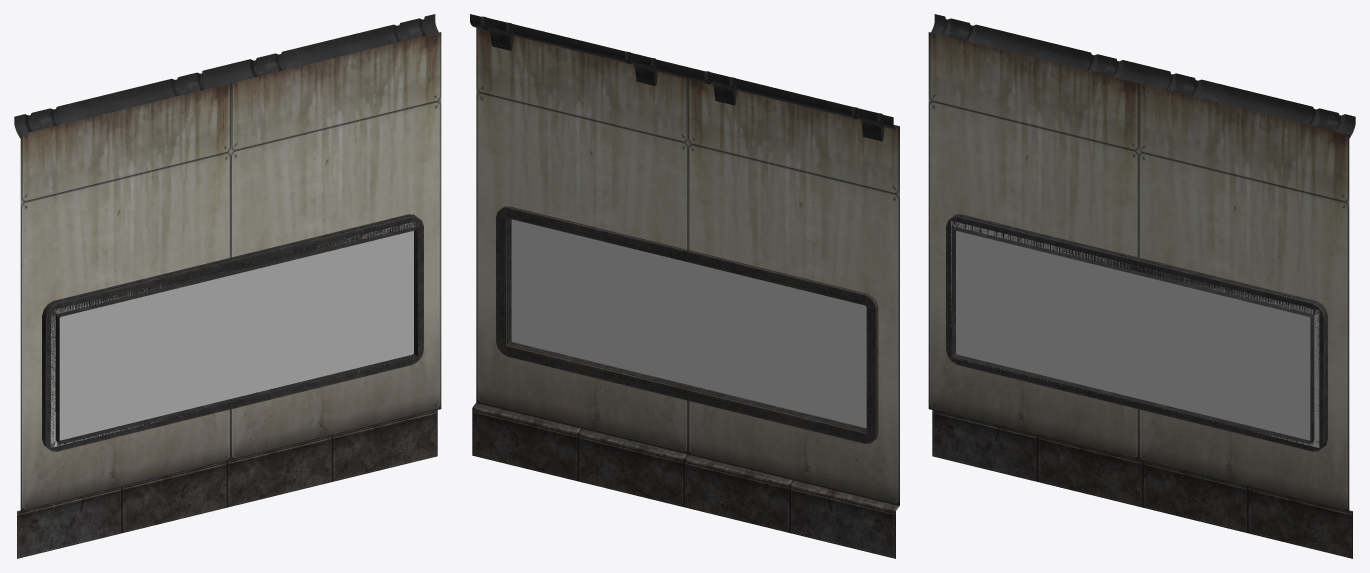
The model's file is lab_window_large_less_reflection.dae.
3 renders of one model, left to right at view 1: azimuth 30°, elevation 25°; view 2: azimuth 150°, elevation 25°; view 3: azimuth 330°, elevation 25°, orthographic.
Visible parts, largest first — view 1: lab_window_large, glass__2_; view 2: lab_window_large, glass__2_; view 3: lab_window_large, glass__2_.
Boxes of the visible parts, x1=… form: lab_window_large: x1=14, y1=14, x2=441, y2=558; glass__2_: x1=50, y1=222, x2=417, y2=447; lab_window_large: x1=470, y1=14, x2=899, y2=558; glass__2_: x1=511, y1=219, x2=866, y2=428; lab_window_large: x1=928, y1=14, x2=1355, y2=558; glass__2_: x1=951, y1=220, x2=1319, y2=447.
Size of the model in its own units: 4 by 4 by 0.2276.
